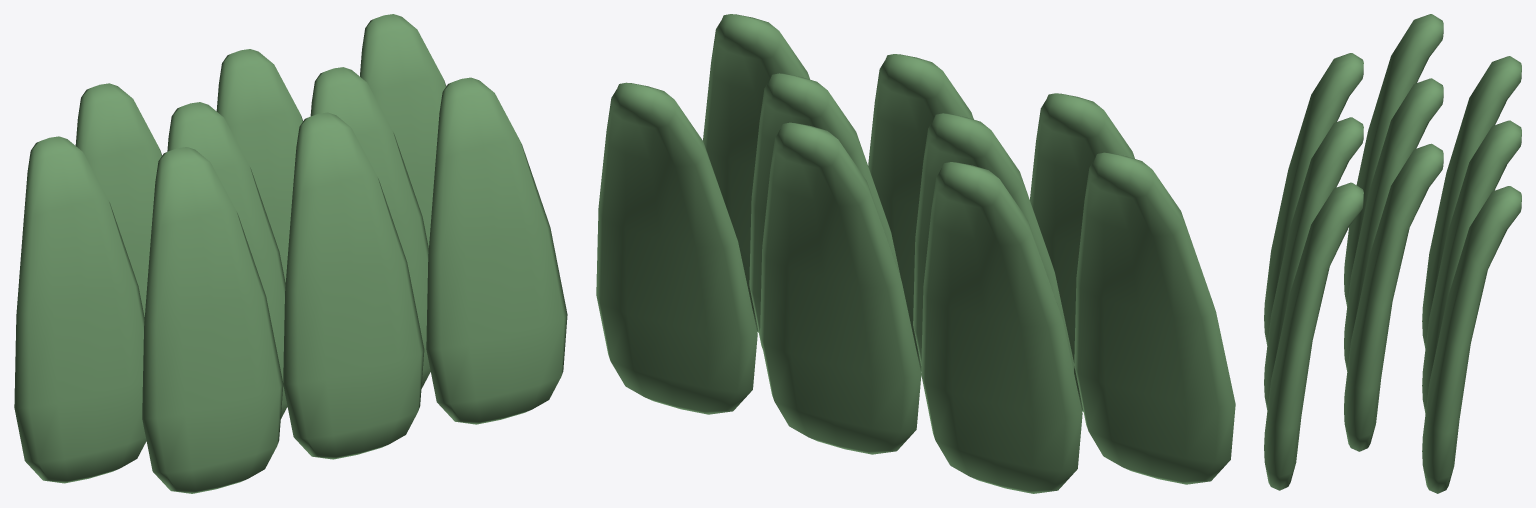
The model's file is grass3.fbx.
The picture shows the model from 3 angles, left to right: view 1: azimuth 30°, elevation 25°; view 2: azimuth 150°, elevation 25°; view 3: azimuth 270°, elevation 25°; orthographic projection. The views are drawn at different scales.
Visible parts, largest first — view 1: grass3; view 2: grass3; view 3: grass3.
Part boxes in pixels (left/top/right/bottom): grass3: left=14, top=14, right=567, bottom=493; grass3: left=596, top=14, right=1235, bottom=493; grass3: left=1264, top=14, right=1521, bottom=493.
Bounding box in the file's own units: 223 × 128 × 103.
